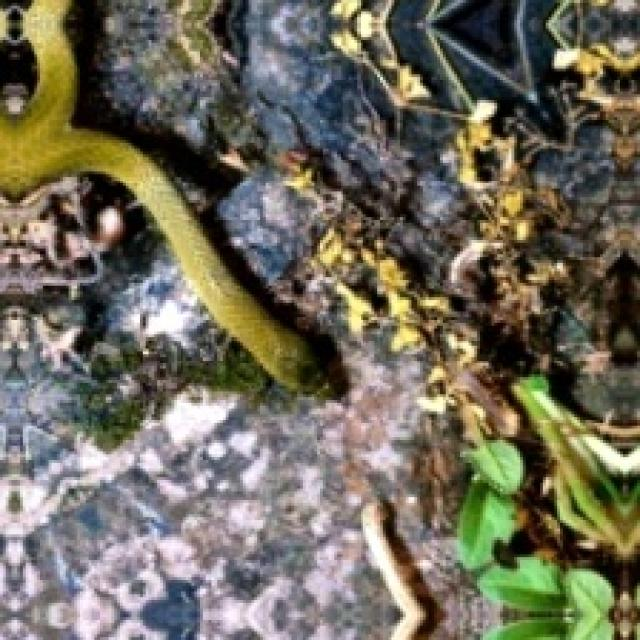gunthers philippine shrub snake: (0, 0, 346, 391)
